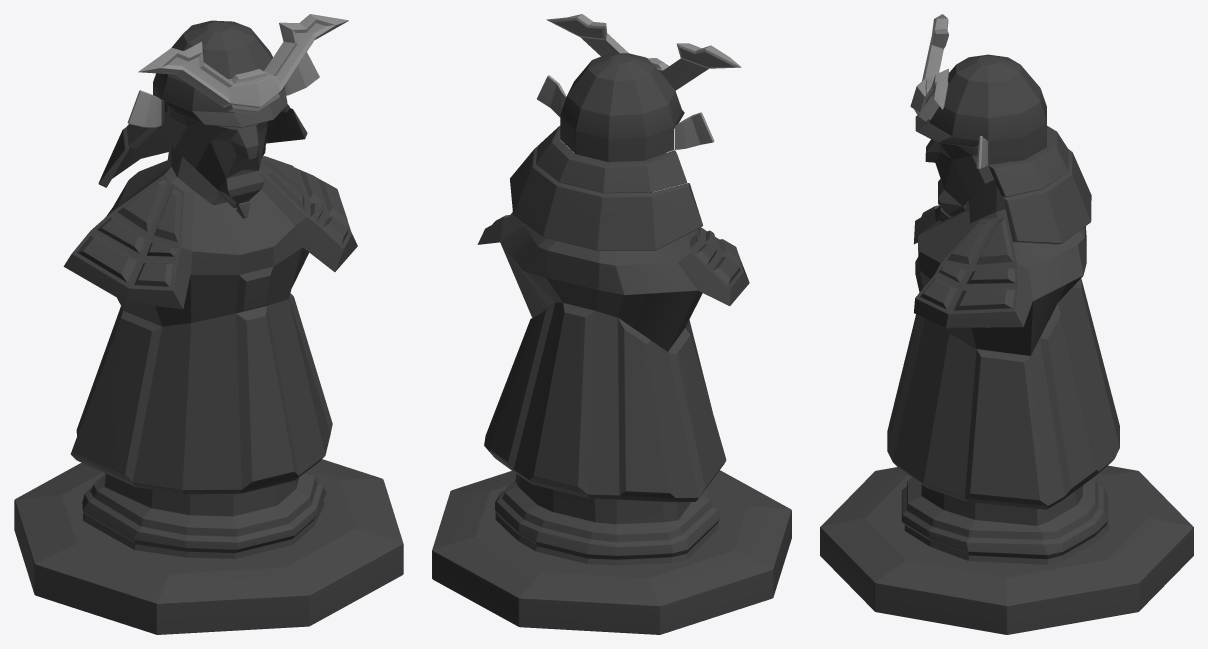
Rendered from samuray_q_b.glb.
The picture shows the model from 3 angles, left to right: view 1: azimuth 30°, elevation 25°; view 2: azimuth 150°, elevation 25°; view 3: azimuth 270°, elevation 25°; orthographic projection. The views are drawn at different scales.
Visible parts, largest first — view 1: b_K; view 2: b_K; view 3: b_K.
Part boxes in pixels (x1,y1,x2,y2): b_K: (14, 14, 403, 634); b_K: (432, 14, 791, 634); b_K: (820, 14, 1193, 634).
Bounding box in the file's own units: 1.65 × 2.51 × 1.65.
Materials: 1 (1 with a texture image).
